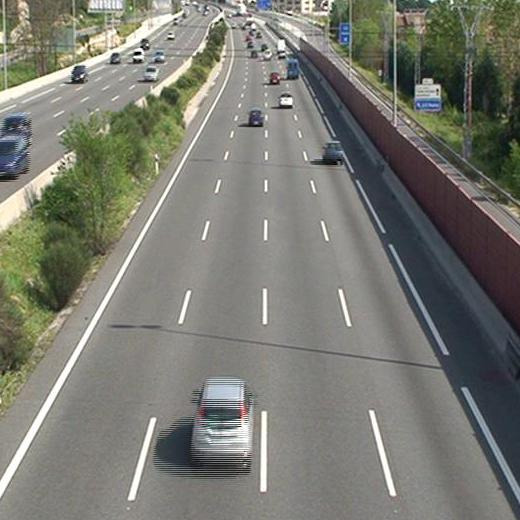car: (188, 381, 252, 465), (323, 141, 342, 161), (248, 108, 265, 126), (279, 92, 294, 105), (268, 72, 281, 85)
van: (286, 58, 300, 80), (276, 39, 287, 53), (263, 48, 273, 59)
